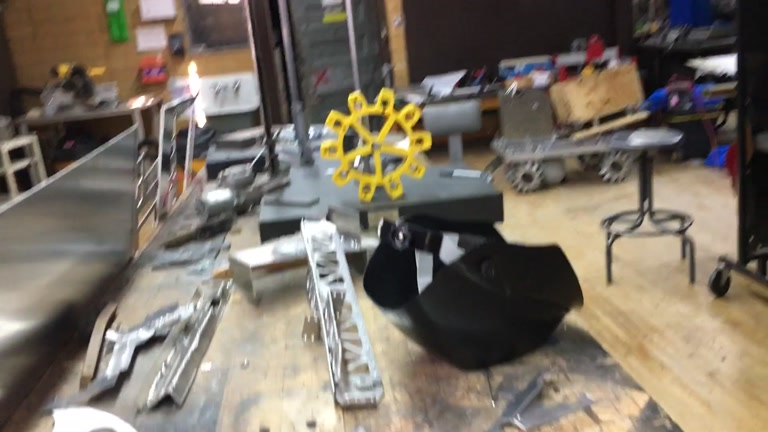gear: (319, 85, 432, 203)
